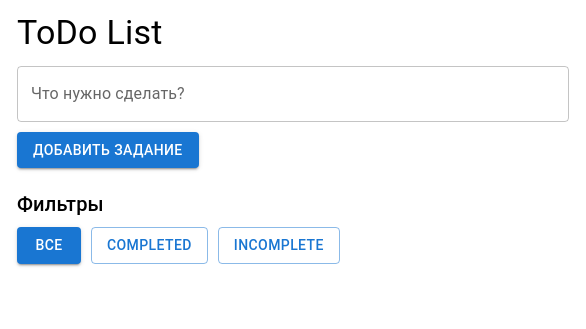
ToDo App › добавление новой задачи
Step 1. Type "Новая задача" into the field labelled "Что нужно сделать?" → (293, 94), box [17, 66, 569, 122]
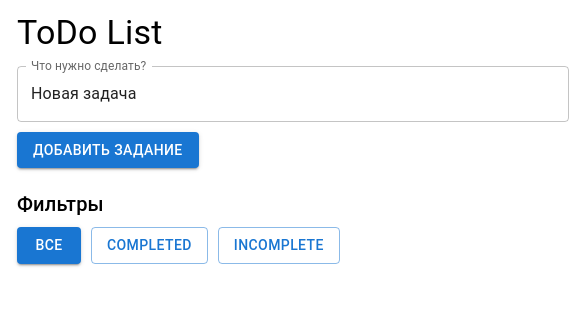
Step 2. Click the button "Добавить задание" → (108, 150), box [17, 132, 199, 168]
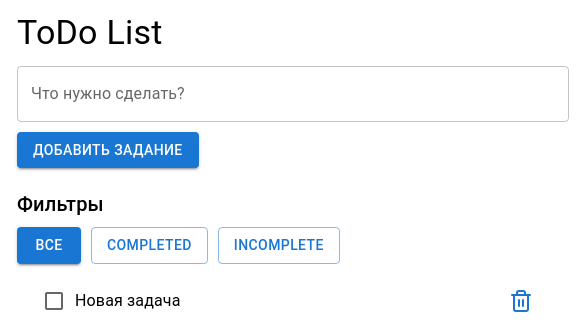
Now the text "Новая задача" is shown, box [75, 291, 180, 310]
